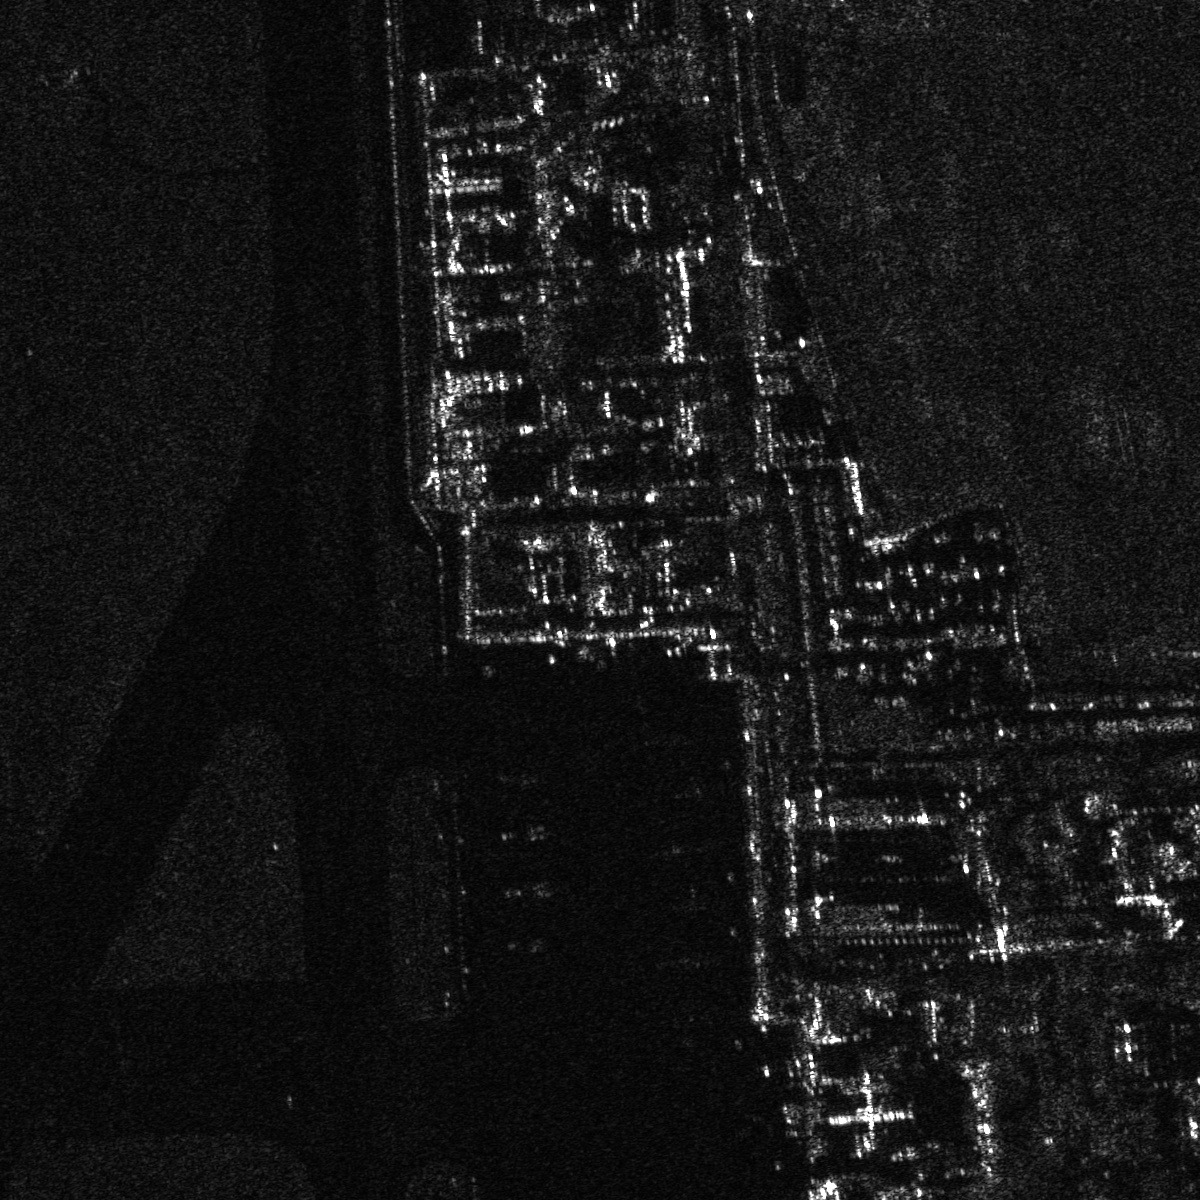ARJ21: (498, 868, 567, 912), (495, 812, 558, 855)
other: (503, 926, 559, 965), (486, 760, 542, 795)
